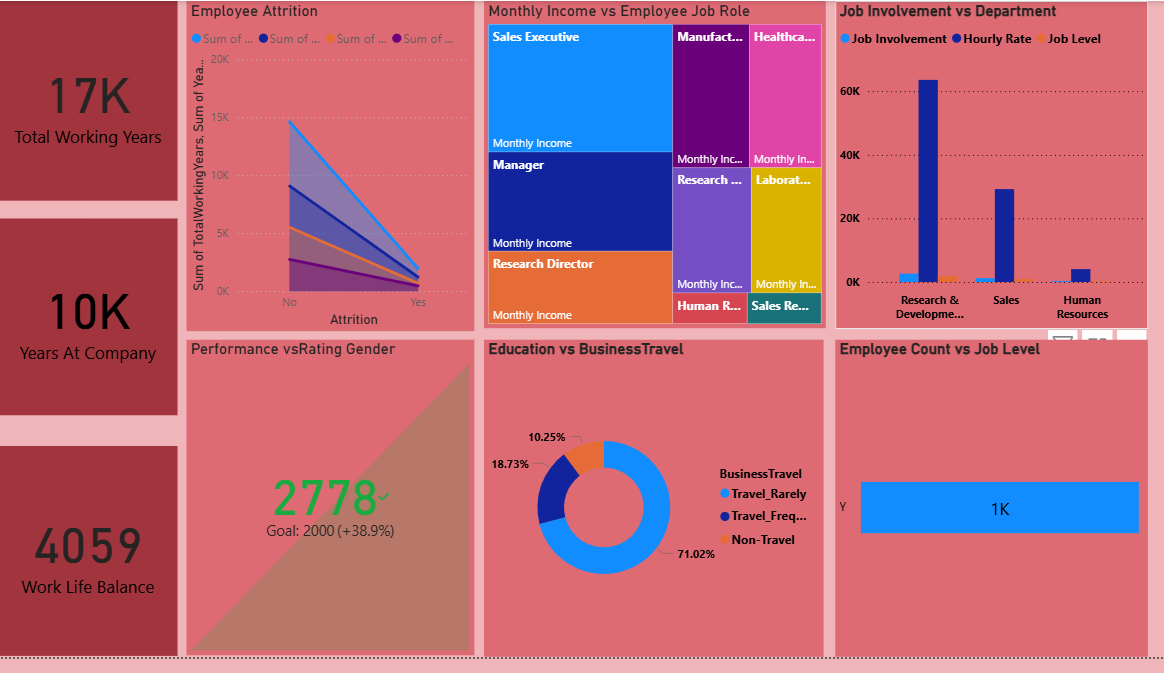

The dashboard page shown, as its layout file describes it:
{"tool":"powerbi","page":{"name":"Employee Statistics","canvas":[1280,720],"ordinal":0},"visuals":[{"type":"areaChart","title":"Employee Attrition","fields":{"Y":["Sum(Cleaned_HR_Data.TotalWorkingYears)","Sum(Cleaned_HR_Data.YearsAtCompany)","Sum(Cleaned_HR_Data.YearsInCurrentRole)","Sum(Cleaned_HR_Data.YearsSinceLastPromotion)"],"Category":["Cleaned_HR_Data.Attrition"]},"box":[205.8,0,315.9,362.3],"z":0},{"type":"treemap","title":"Monthly Income vs Employee Job Role","fields":{"Values":["Sum(Cleaned_HR_Data.MonthlyIncome)","Sum(Cleaned_HR_Data.EmployeeCount)"],"Group":["Cleaned_HR_Data.JobRole"]},"box":[531.9,0,375.4,359.4],"z":1000},{"type":"kpi","title":"Performance vsRating Gender","fields":{"TrendLine":["Cleaned_HR_Data.Gender"],"Indicator":["Sum(Cleaned_HR_Data.PerformanceRating)"],"Goal":["Cleaned_HR_Data.Target"]},"box":[205.8,372.5,315.9,346.4],"z":2000},{"type":"donutChart","title":"Education vs BusinessTravel","fields":{"Y":["Sum(Cleaned_HR_Data.Education)"],"Category":["Cleaned_HR_Data.BusinessTravel"]},"box":[531.9,372.5,372.5,347.8],"z":3000},{"type":"clusteredColumnChart","title":"Job Involvement vs Department","fields":{"Y":["Sum(Cleaned_HR_Data.JobInvolvement)","Sum(Cleaned_HR_Data.HourlyRate)","Sum(Cleaned_HR_Data.JobLevel)"],"Category":["Cleaned_HR_Data.Department"]},"box":[917.4,0,343.5,359.4],"z":4000},{"type":"funnel","title":"Employee Count vs Job Level ","fields":{"Category":["Cleaned_HR_Data.Over18","Cleaned_HR_Data.JobRole","Cleaned_HR_Data.MaritalStatus"],"Y":["Sum(Cleaned_HR_Data.EmployeeCount)"]},"box":[917.4,372.5,343.5,347.8],"z":5000},{"type":"card","fields":{"Values":["Sum(Cleaned_HR_Data.TotalWorkingYears)"]},"box":[0,0,195.7,218.8],"z":6000},{"type":"card","fields":{"Values":["Sum(Cleaned_HR_Data.YearsAtCompany)"]},"box":[0,239.1,195.7,215.9],"z":7000},{"type":"card","fields":{"Values":["Sum(Cleaned_HR_Data.WorkLifeBalance)"]},"box":[0,488.4,195.7,230.4],"z":8000}]}

Visuals, with their boxes in screenshot pixels (x1, y1, x2, y2), scaled from the page's 1280x720 canvas onto the 1164x673 screenshot:
"Employee Attrition" areaChart: <region>187, 0, 474, 339</region>
"Monthly Income vs Employee Job Role" treemap: <region>484, 0, 825, 336</region>
"Performance vsRating Gender" kpi: <region>187, 348, 474, 672</region>
"Education vs BusinessTravel" donutChart: <region>484, 348, 822, 672</region>
"Job Involvement vs Department" clusteredColumnChart: <region>834, 0, 1147, 336</region>
"Employee Count vs Job Level " funnel: <region>834, 348, 1147, 672</region>
card - Sum(Cleaned_HR_Data.TotalWorkingYears): <region>0, 0, 178, 205</region>
card - Sum(Cleaned_HR_Data.YearsAtCompany): <region>0, 223, 178, 425</region>
card - Sum(Cleaned_HR_Data.WorkLifeBalance): <region>0, 457, 178, 672</region>
